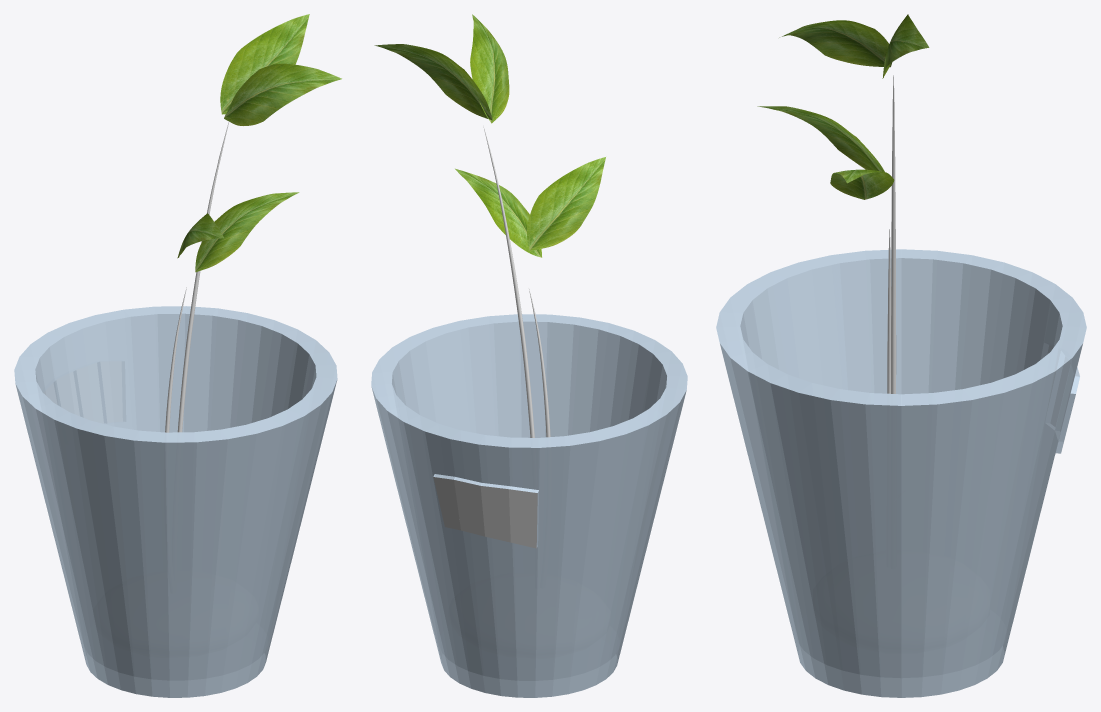
The model's file is planta3.glb.
The picture shows the model from 3 angles, left to right: view 1: azimuth 30°, elevation 25°; view 2: azimuth 150°, elevation 25°; view 3: azimuth 270°, elevation 25°; orthographic projection. The views are drawn at different scales.
Visible parts, largest first — view 1: Cilindro, new_plant_1:planarTrimmedSurface1.001, new_plant_1:planarTrimmedSurface1, new_plant_1:planarTrimmedSurface1.003, new_plant_1:pCube1, new_plant_1:planarTrimmedSurface1.002, new_plant_1:pCube1.001; view 2: Cilindro, new_plant_1:planarTrimmedSurface1.002, new_plant_1:planarTrimmedSurface1, new_plant_1:planarTrimmedSurface1.001, new_plant_1:planarTrimmedSurface1.003, new_plant_1:pCube1, new_plant_1:pCube1.001; view 3: Cilindro, new_plant_1:planarTrimmedSurface1.001, new_plant_1:planarTrimmedSurface1.002, new_plant_1:planarTrimmedSurface1.003, new_plant_1:pCube1, new_plant_1:planarTrimmedSurface1, new_plant_1:pCube1.001.
Part boxes in pixels (x1,y1,x2,y2): Cilindro: [14, 306, 337, 697]; new_plant_1:planarTrimmedSurface1.001: [224, 63, 341, 125]; new_plant_1:planarTrimmedSurface1: [220, 14, 309, 114]; new_plant_1:planarTrimmedSurface1.003: [195, 192, 299, 272]; new_plant_1:pCube1: [177, 122, 228, 432]; new_plant_1:planarTrimmedSurface1.002: [177, 213, 223, 258]; new_plant_1:pCube1.001: [165, 287, 186, 432]; Cilindro: [371, 314, 687, 697]; new_plant_1:planarTrimmedSurface1.002: [527, 157, 605, 250]; new_plant_1:planarTrimmedSurface1: [374, 44, 492, 120]; new_plant_1:planarTrimmedSurface1.001: [470, 14, 509, 123]; new_plant_1:planarTrimmedSurface1.003: [455, 168, 542, 257]; new_plant_1:pCube1: [483, 126, 534, 437]; new_plant_1:pCube1.001: [529, 289, 550, 437]; Cilindro: [716, 249, 1086, 697]; new_plant_1:planarTrimmedSurface1.001: [779, 20, 892, 67]; new_plant_1:planarTrimmedSurface1.002: [757, 106, 884, 171]; new_plant_1:planarTrimmedSurface1.003: [830, 169, 894, 199]; new_plant_1:pCube1: [891, 75, 896, 393]; new_plant_1:planarTrimmedSurface1: [882, 14, 929, 78]; new_plant_1:pCube1.001: [887, 229, 891, 393].
Bounding box in the file's own units: 2.28 × 4.59 × 2.23.
9 materials, 4 textured.
